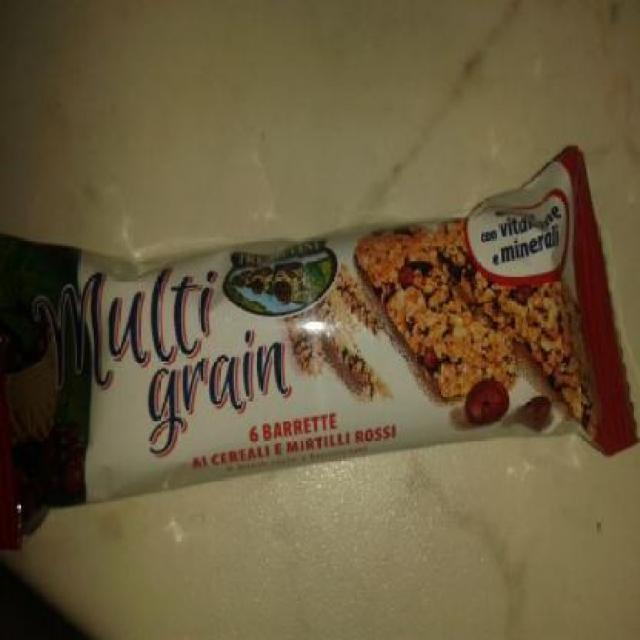Cereal bar: (15, 147, 636, 502)
